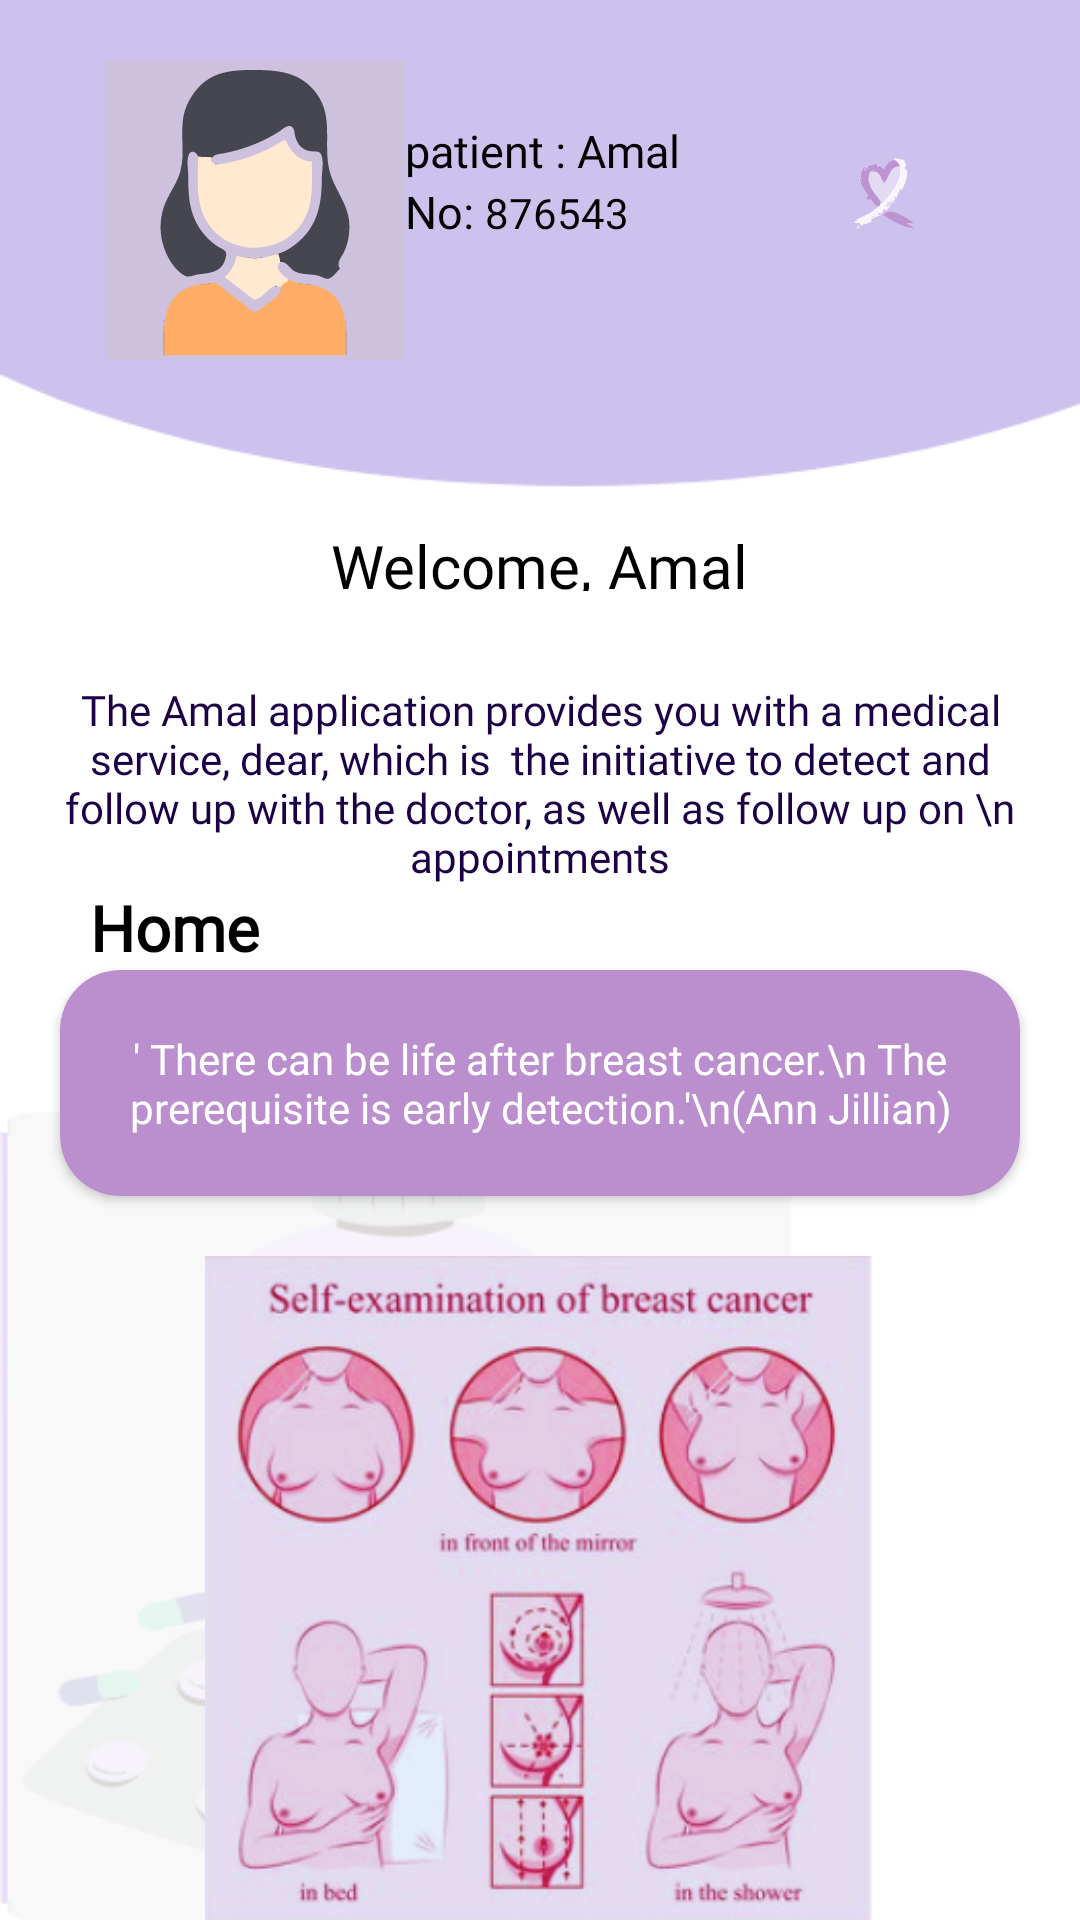

Point at icon controls on the screen. Image size 1080x1920, points as [x,y].
heart: [883,193]
person: [255,213]
